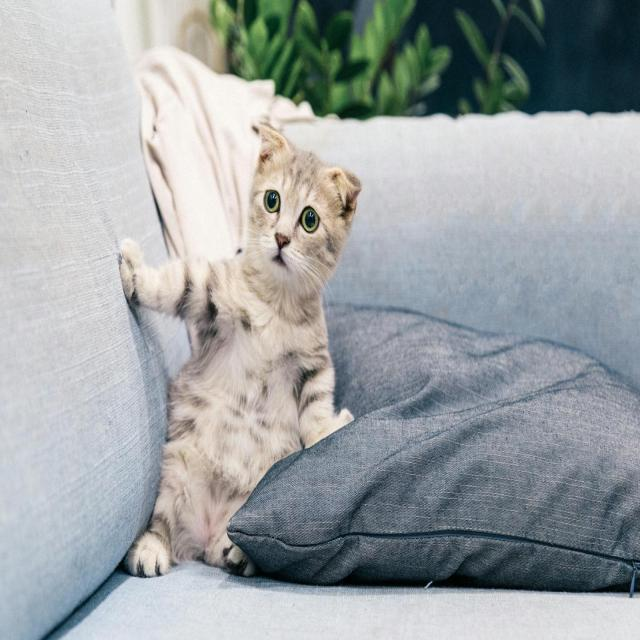Cat: (118, 116, 362, 579)
